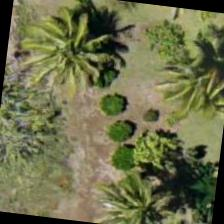Kelapa_Sawit: (16, 2, 116, 102), (94, 158, 193, 223), (160, 36, 223, 135)
